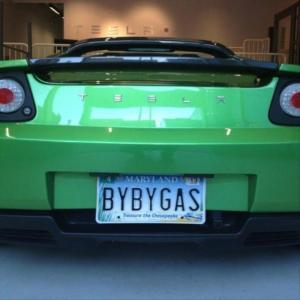Plate: (96, 176, 205, 222)
